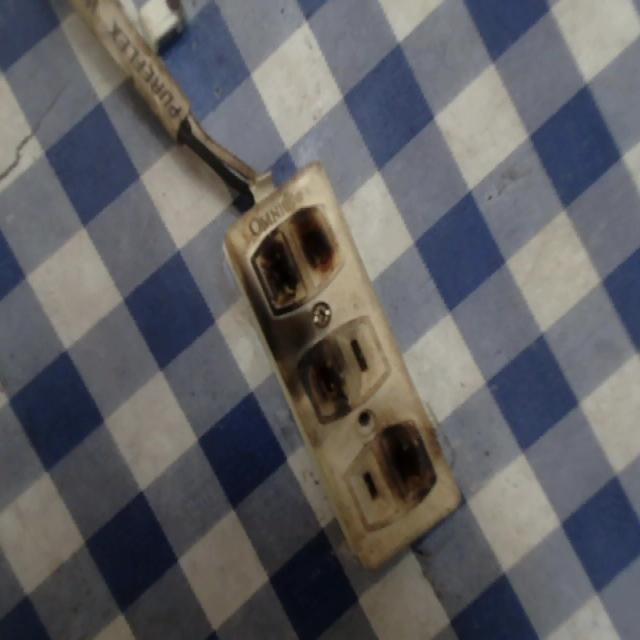-: (233, 202, 358, 318), (373, 405, 447, 516), (280, 335, 355, 420)
